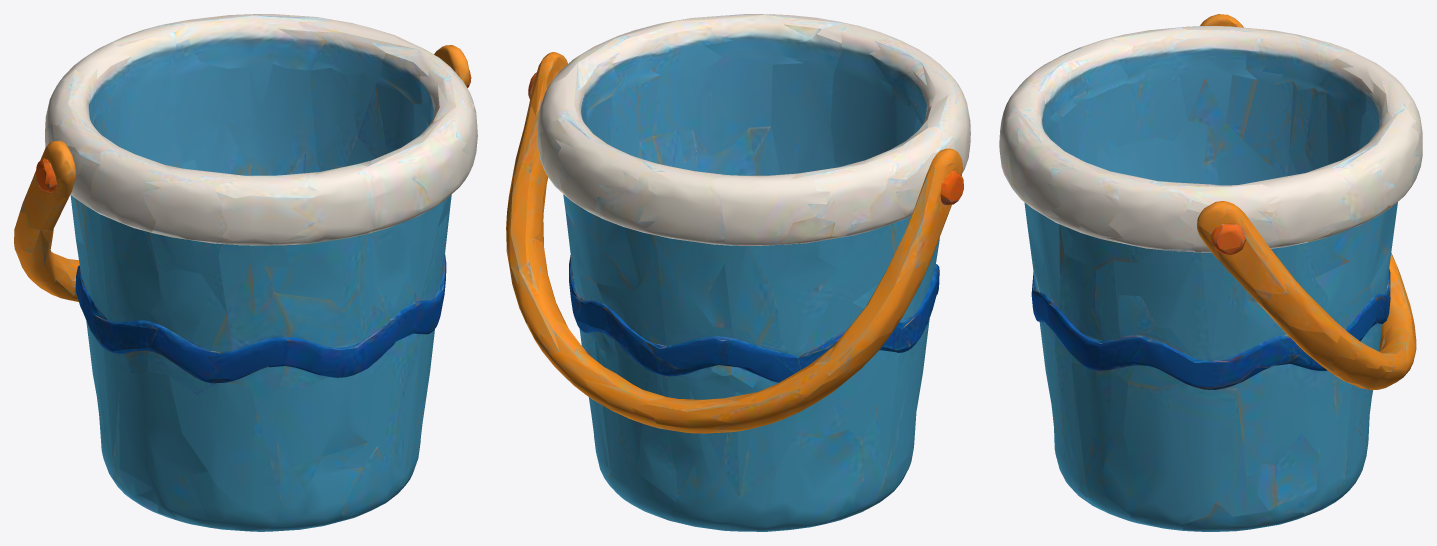
The model's file is bucket.glb.
3 renders of one model, left to right at view 1: azimuth 30°, elevation 25°; view 2: azimuth 150°, elevation 25°; view 3: azimuth 270°, elevation 25°, orthographic. The views are drawn at different scales.
Parts seen in each view (by area): view 1: Mesh_0; view 2: Mesh_0; view 3: Mesh_0.
Part boxes in pixels (x1,y1,x2,y2): Mesh_0: (14, 14, 477, 531); Mesh_0: (506, 14, 970, 531); Mesh_0: (999, 14, 1422, 531).
Size of the model in its own units: 0.3318 by 0.28 by 0.2926.
Materials: 1 (1 with a texture image).
